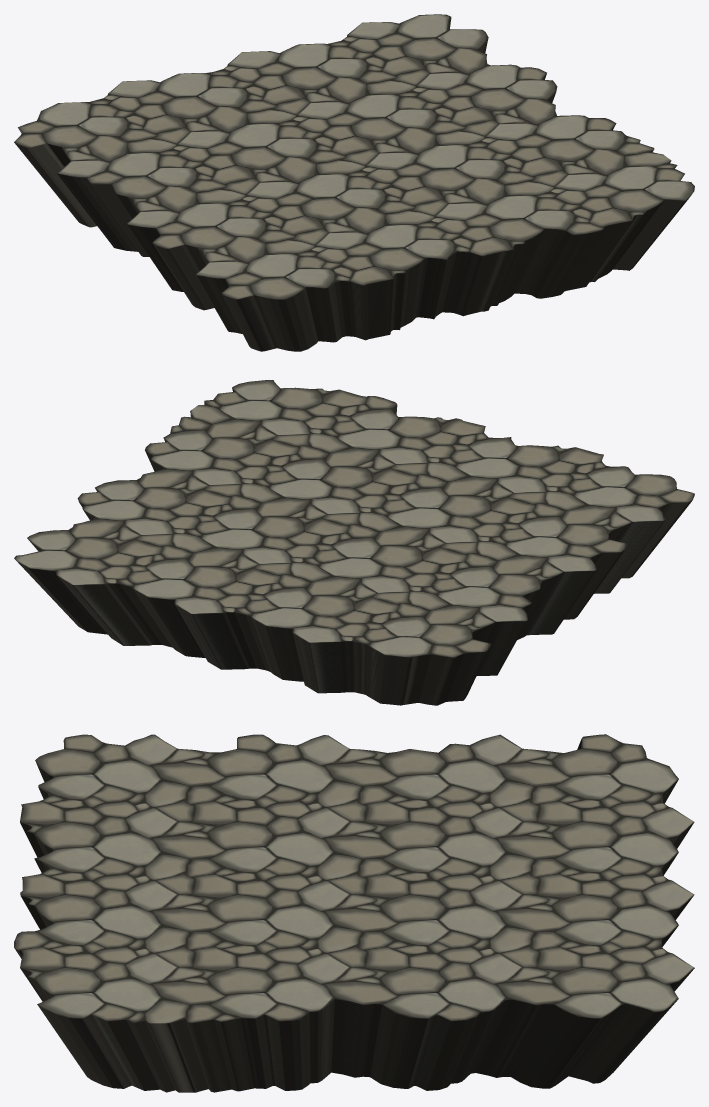
The model's file is Suelo.fbx.
The picture shows the model from 3 angles, top to bottom: view 1: azimuth 30°, elevation 25°; view 2: azimuth 150°, elevation 25°; view 3: azimuth 270°, elevation 25°; orthographic projection. The views are drawn at different scales.
Visible parts, largest first — view 1: Suelo; view 2: Suelo; view 3: Suelo.
Boxes of the visible parts, x1,y1,x2,y2 form: Suelo: [14, 14, 694, 351]; Suelo: [14, 380, 694, 705]; Suelo: [14, 734, 694, 1092].
Size of the model in its own units: 992 by 151 by 988.
